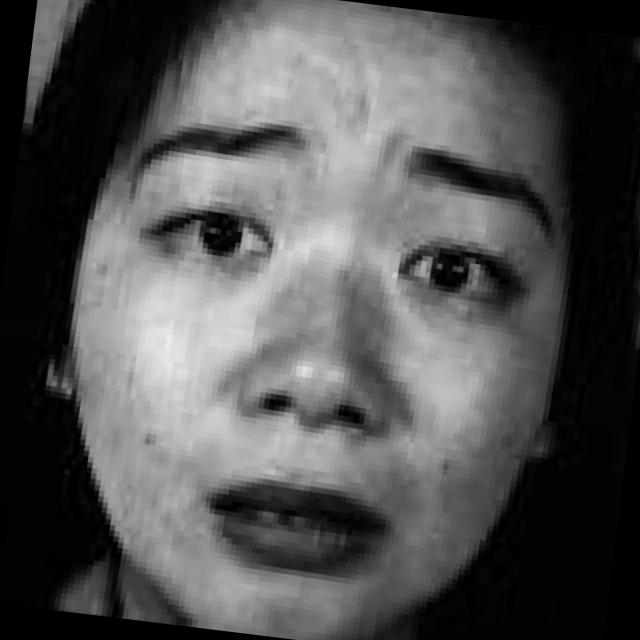fear: (41, 23, 587, 640)
